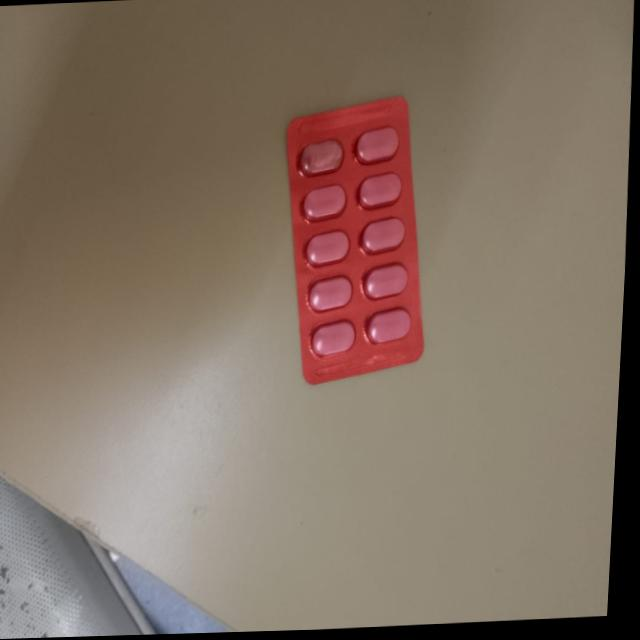medicine: (259, 96, 454, 390)
